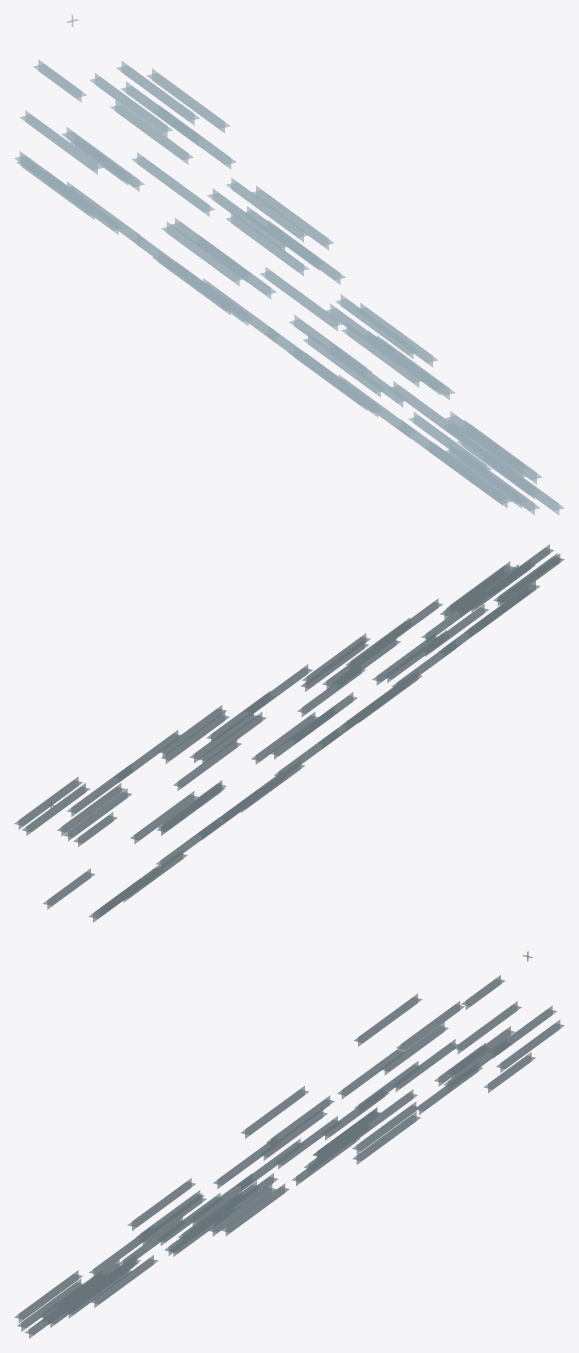
The model's file is wp_water_324.obj.
3 renders of one model, top to bottom at view 1: azimuth 30°, elevation 25°; view 2: azimuth 150°, elevation 25°; view 3: azimuth 330°, elevation 25°, orthographic. The views are drawn at different scales.
Size of the model in its own units: 0.3074 by 0.2627 by 1.8.
1 material, 1 textured.
